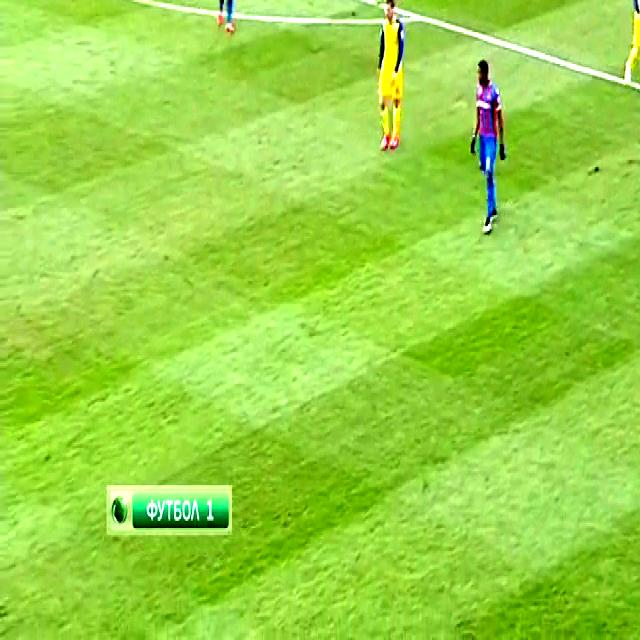soccer-player: (452, 58, 518, 243), (366, 0, 426, 158), (606, 0, 640, 98), (192, 0, 257, 41)
